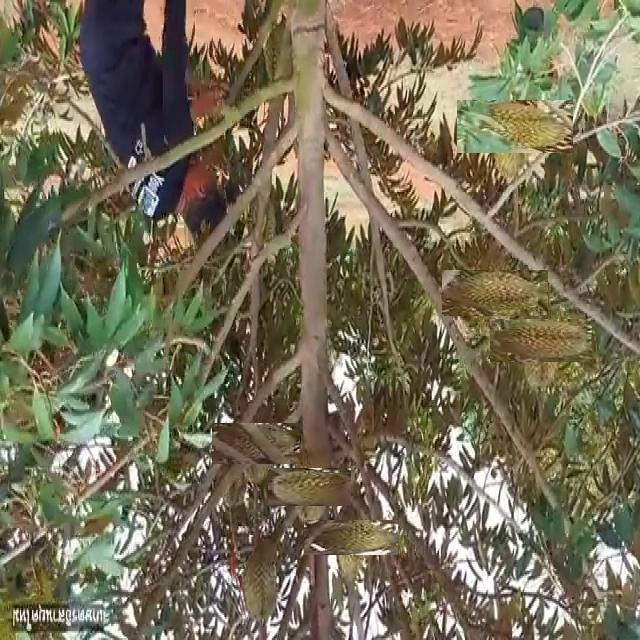durian: (473, 84, 557, 170), (456, 255, 533, 331), (504, 304, 577, 378), (238, 534, 286, 629), (223, 411, 289, 477), (318, 506, 384, 570), (280, 456, 340, 517)
